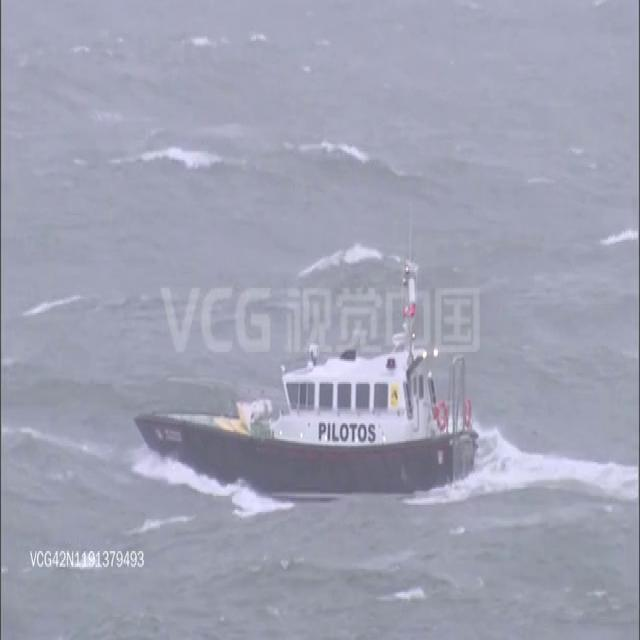houseboat: (132, 271, 474, 505)
